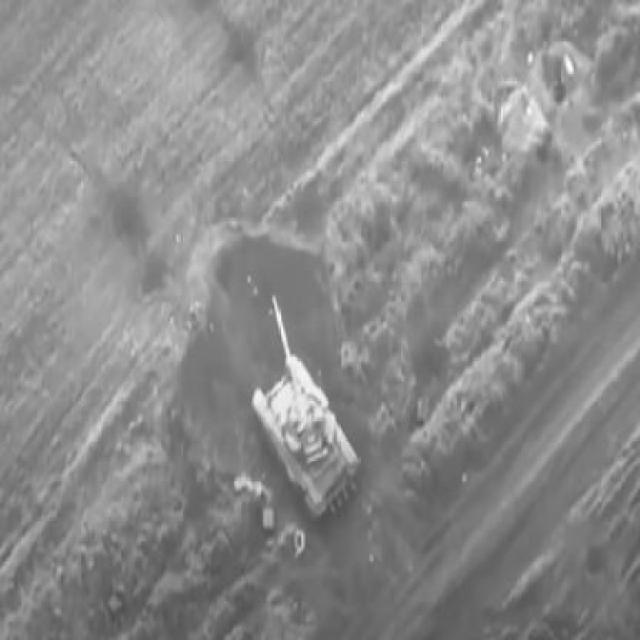Tank: (250, 293, 364, 537)
